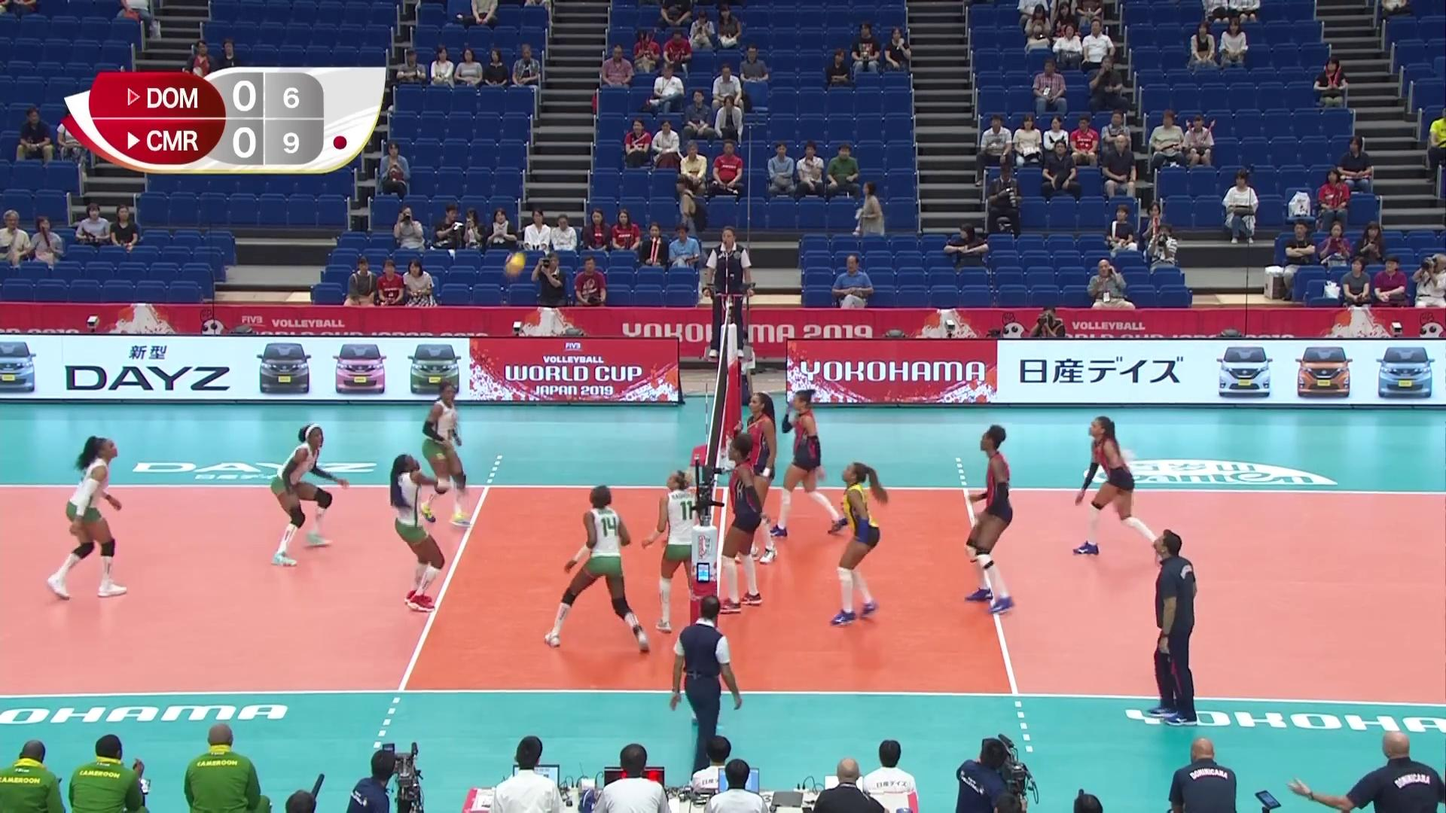player: (546, 491, 657, 650), (1074, 421, 1164, 559), (49, 442, 125, 601), (960, 429, 1020, 615), (274, 423, 353, 563), (828, 465, 889, 625), (778, 390, 845, 535), (414, 385, 475, 538), (391, 444, 444, 612), (650, 473, 702, 629), (735, 394, 778, 565), (724, 436, 764, 618)
refree: (671, 590, 743, 807), (704, 223, 753, 358)
